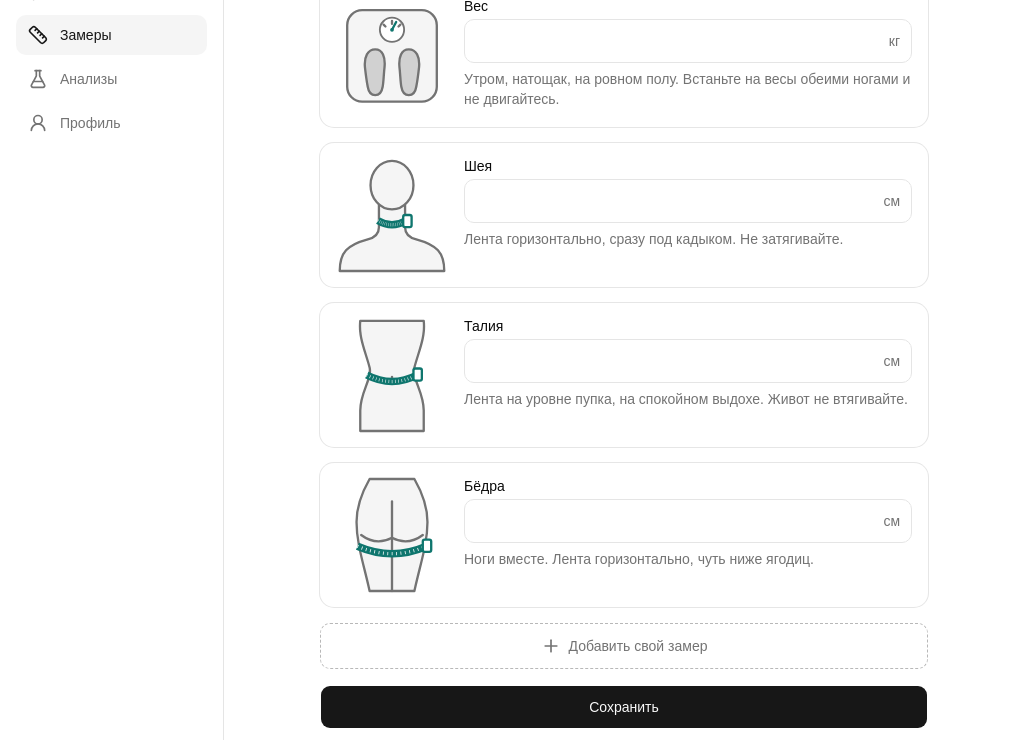
Scenario: новый замер › пустую форму не отправляет
(page scrolled)
Check: the field labelled "Вес" is shown, box [464, 19, 912, 63]
Click the button "Сохранить": {"x": 624, "y": 707} [320, 685, 928, 729]
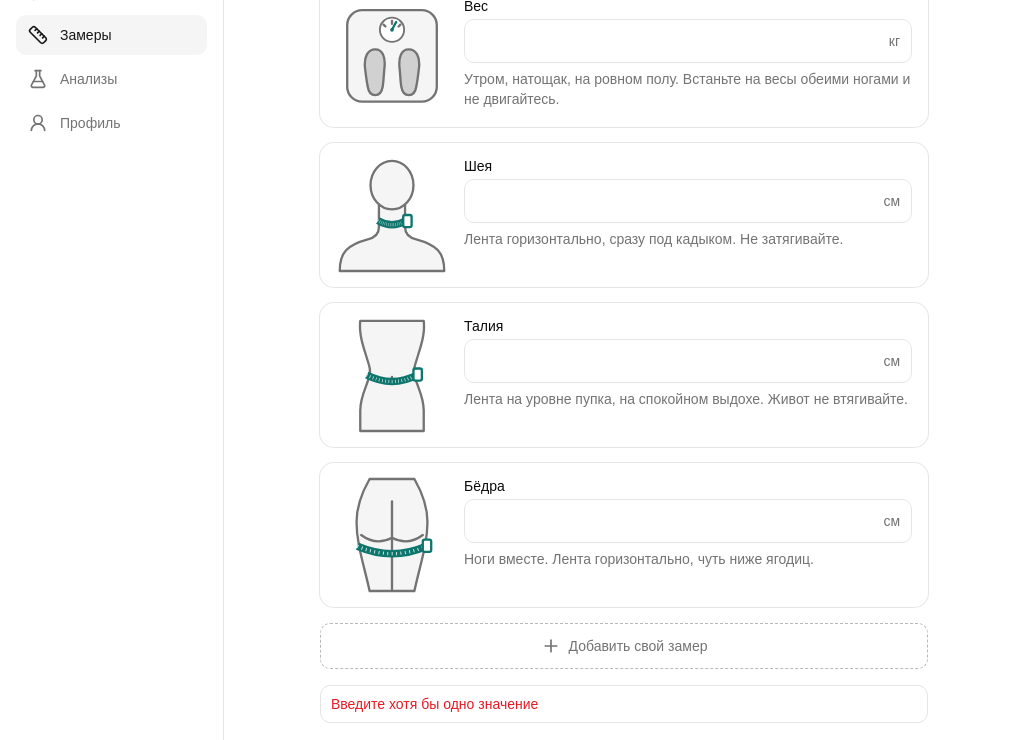
Check: the message reads "Введите хотя бы одно значение", box [331, 696, 538, 712]
